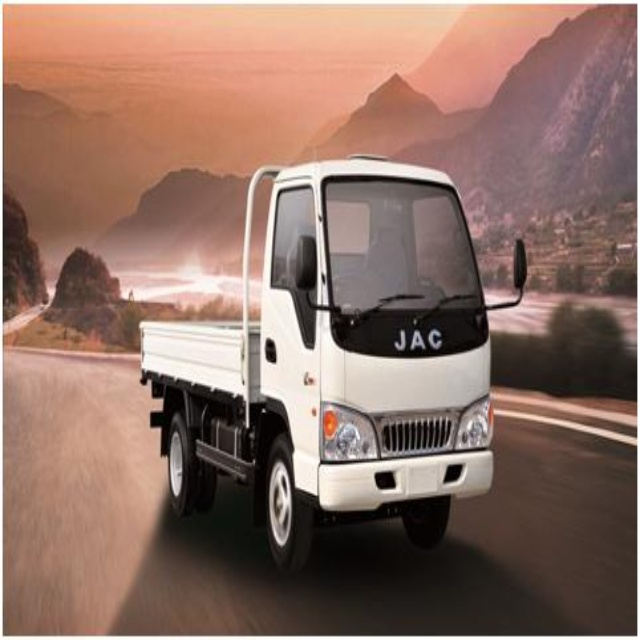Truck: (139, 154, 530, 574)
